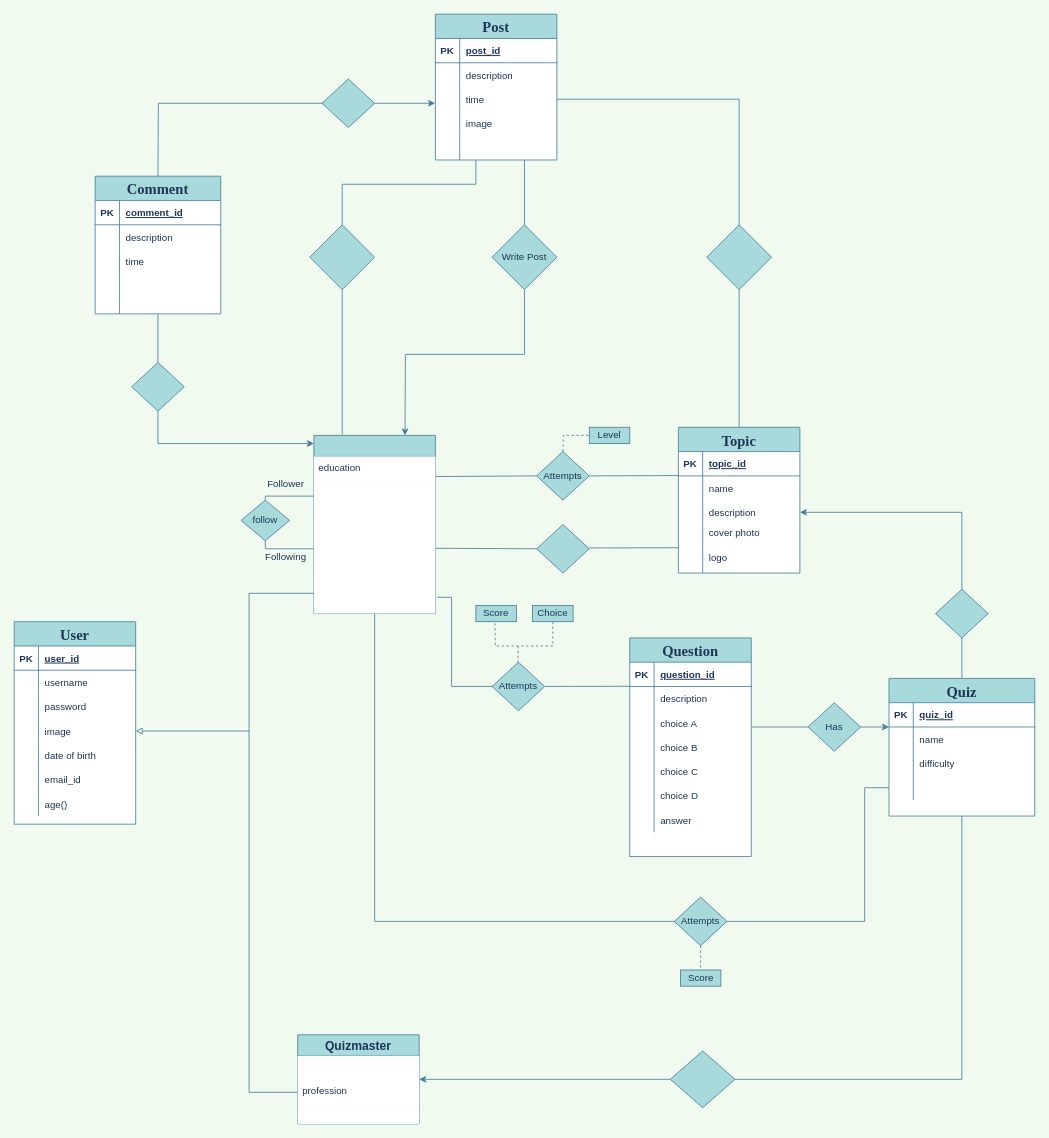
The diagram is 1049 pixels wide and 1138 high, and some of its shapes have lost their labels. The box of each missing label's shape, as (x1, y1, x2, y2) in pixels:
Belongs to: (706, 224, 772, 290)
Contains: (935, 588, 988, 638)
Follows: (536, 524, 589, 573)
In: (321, 78, 375, 128)
Likes: (309, 224, 375, 290)
Made by: (131, 362, 184, 411)
Player: (313, 435, 435, 614)
rank: (313, 480, 435, 505)
Sets Question: (669, 1050, 735, 1108)
speciality: (297, 1055, 419, 1080)
